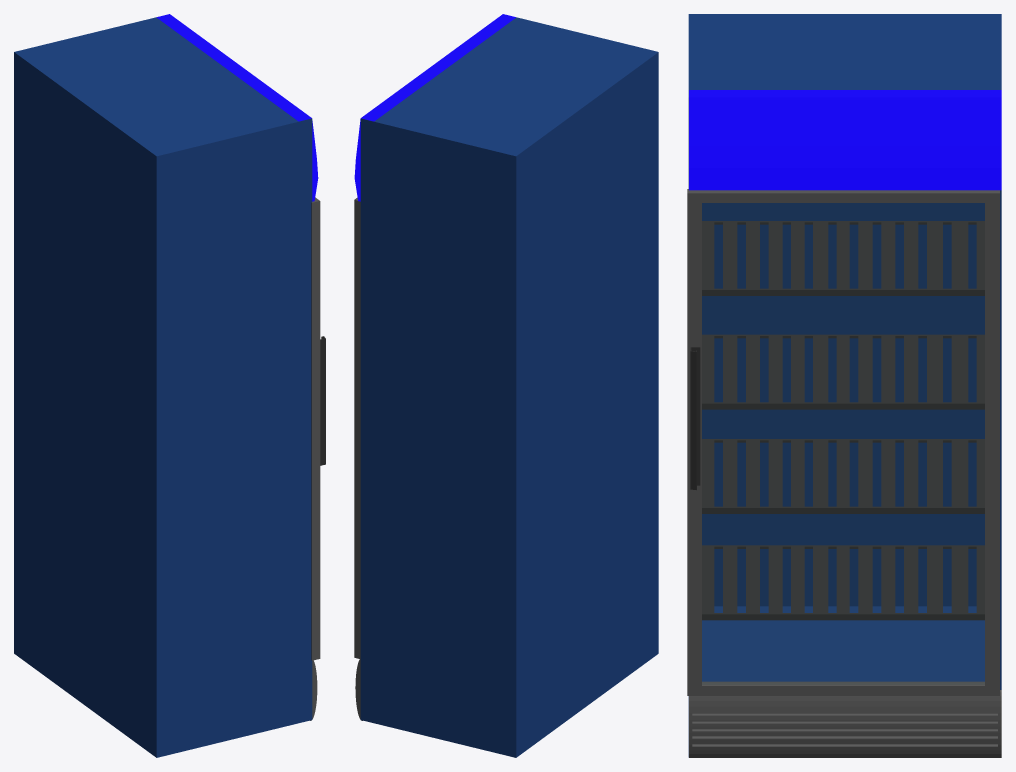
The model's file is market_fridge.glb.
The picture shows the model from 3 angles, left to right: view 1: azimuth 30°, elevation 25°; view 2: azimuth 150°, elevation 25°; view 3: azimuth 270°, elevation 25°; orthographic projection. The views are drawn at different scales.
Size of the model in its own units: 2.39 by 8.04 by 3.46.
